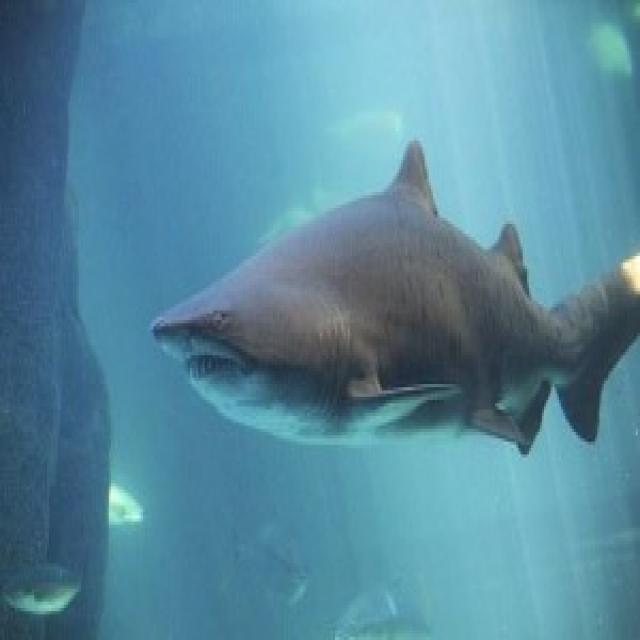Shark: (149, 133, 640, 489)
